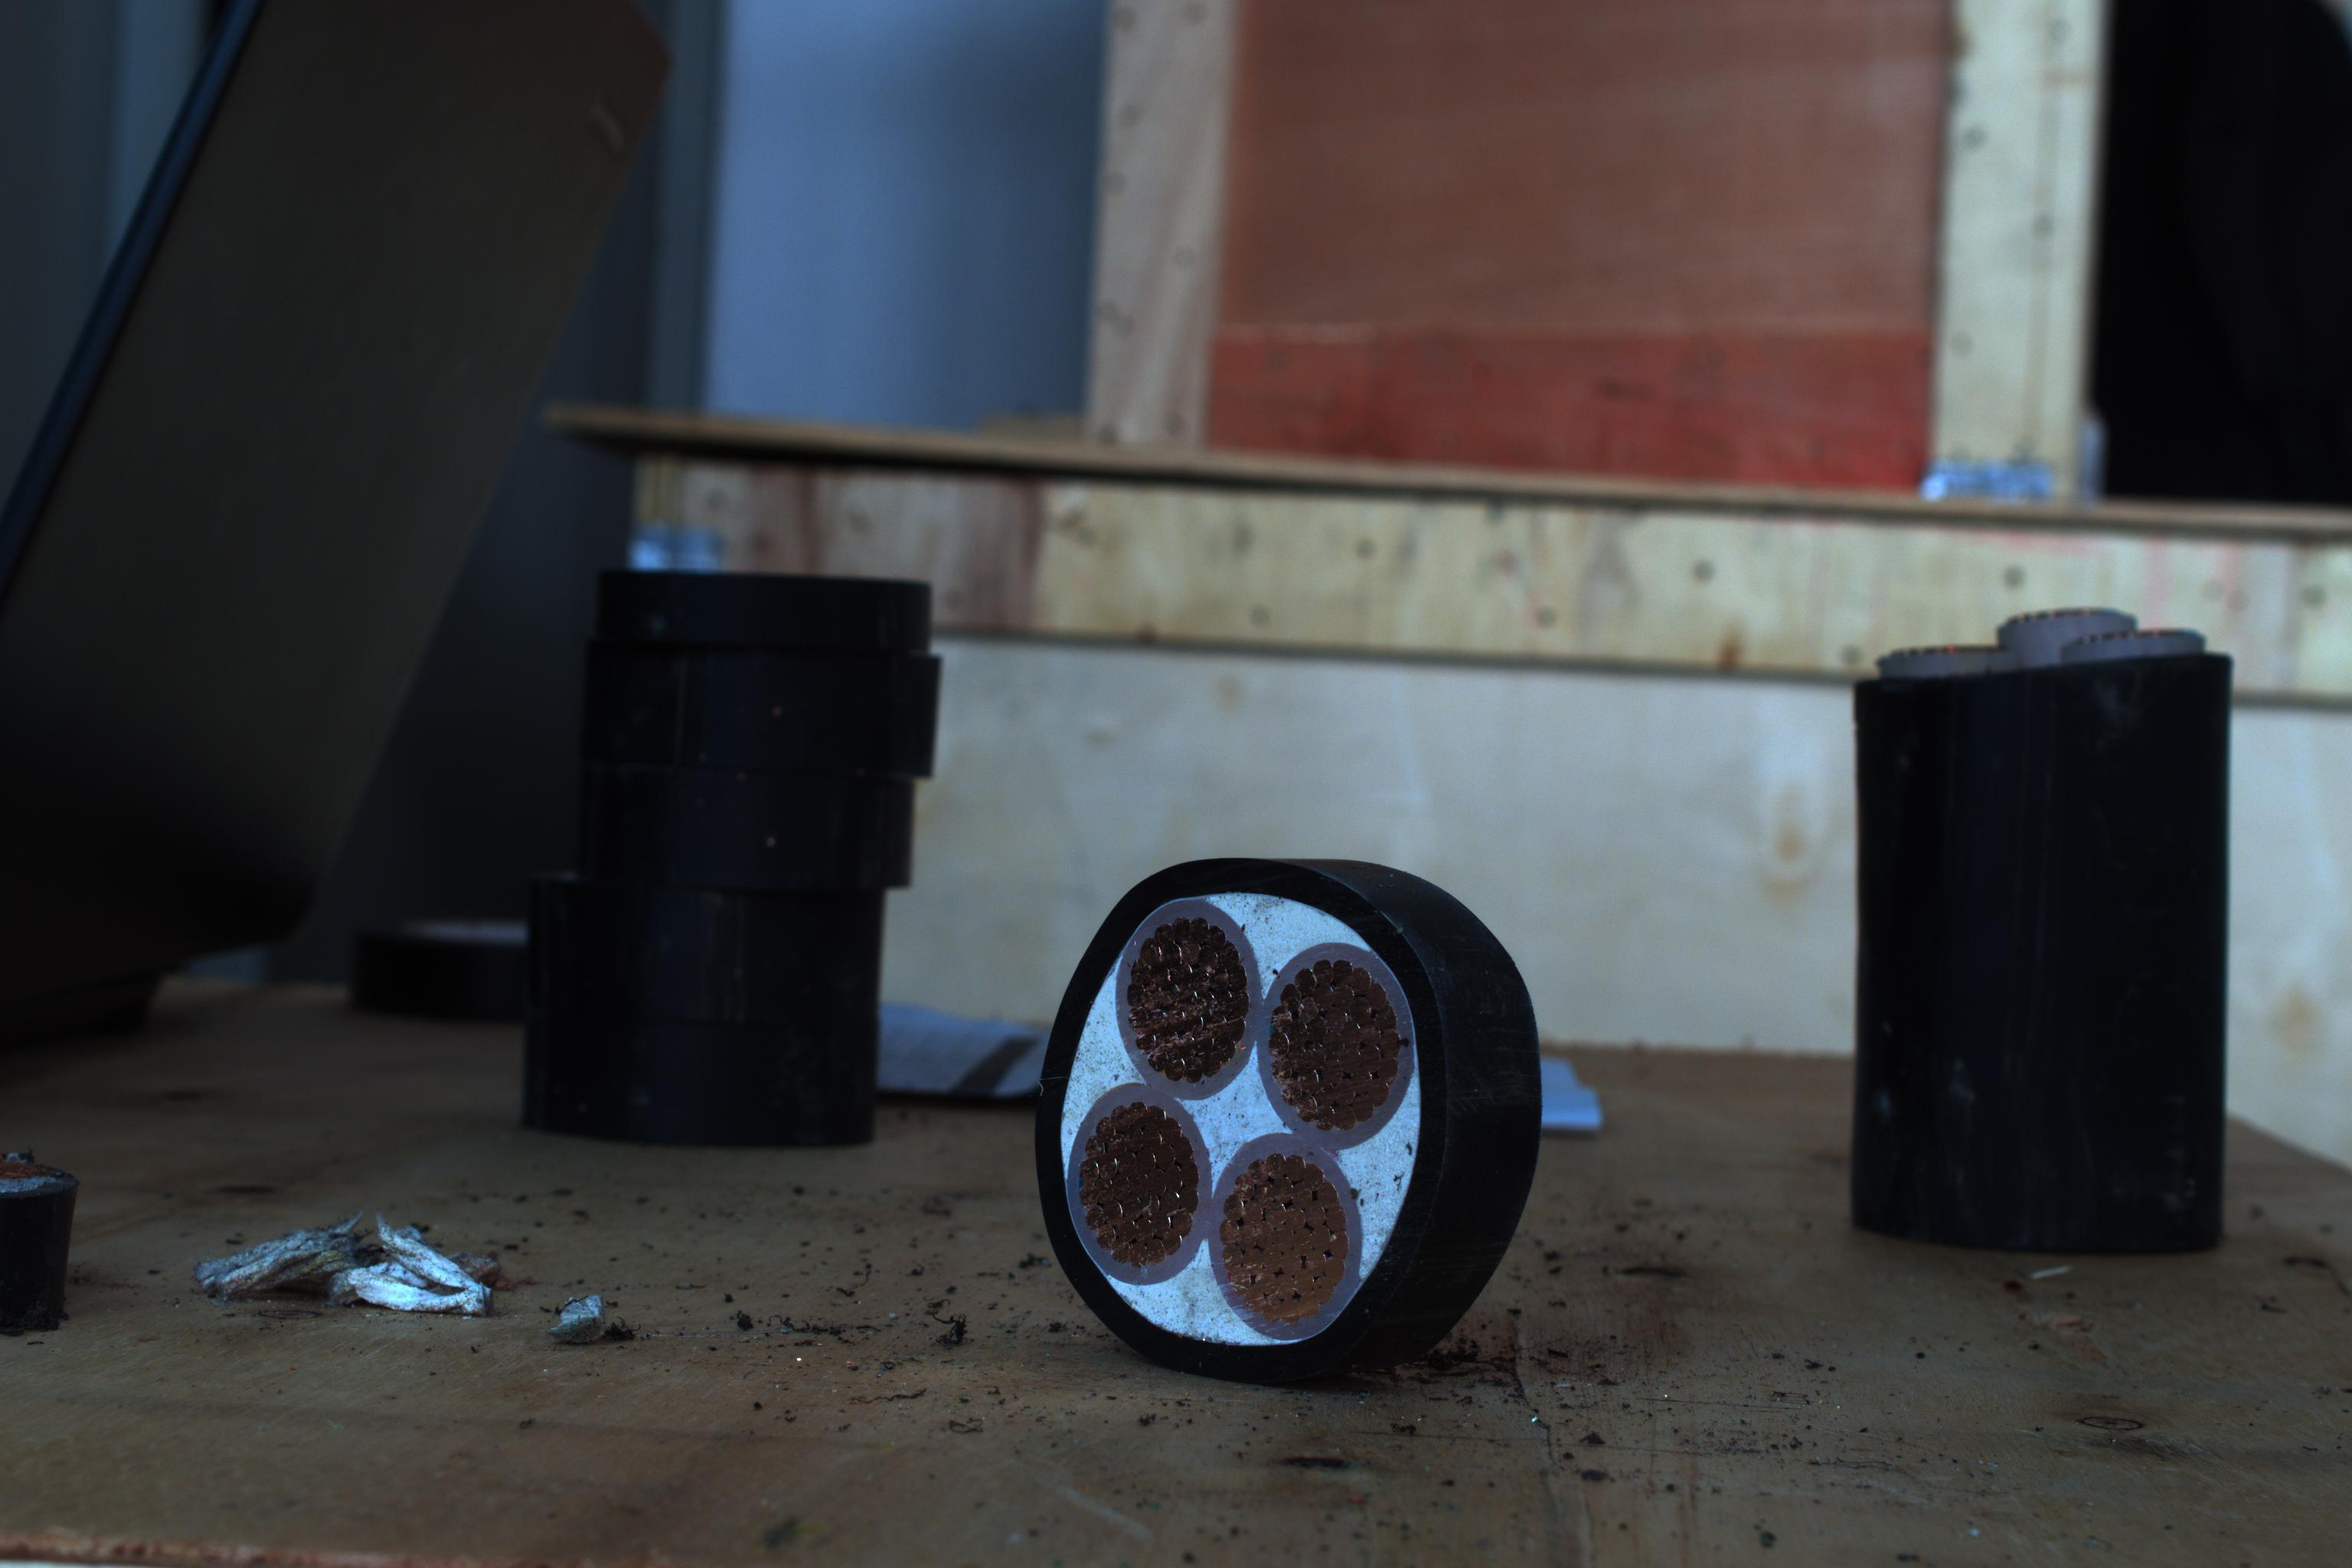YJV_0.6_1kV_4x240: (1029, 850, 1473, 1349)
